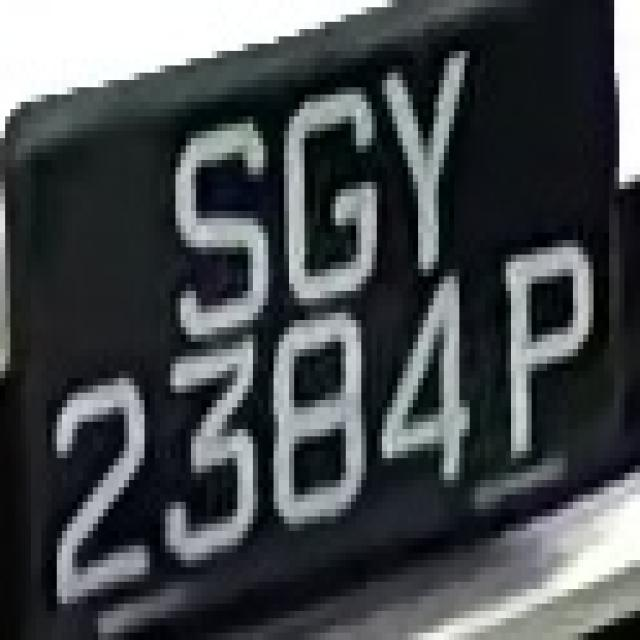2: (31, 342, 155, 611)
3: (144, 328, 268, 568)
4: (361, 262, 480, 509)
8: (258, 320, 361, 531)
G: (263, 65, 372, 328)
P: (485, 225, 599, 473)
S: (140, 109, 274, 342)
Y: (366, 65, 491, 262)
